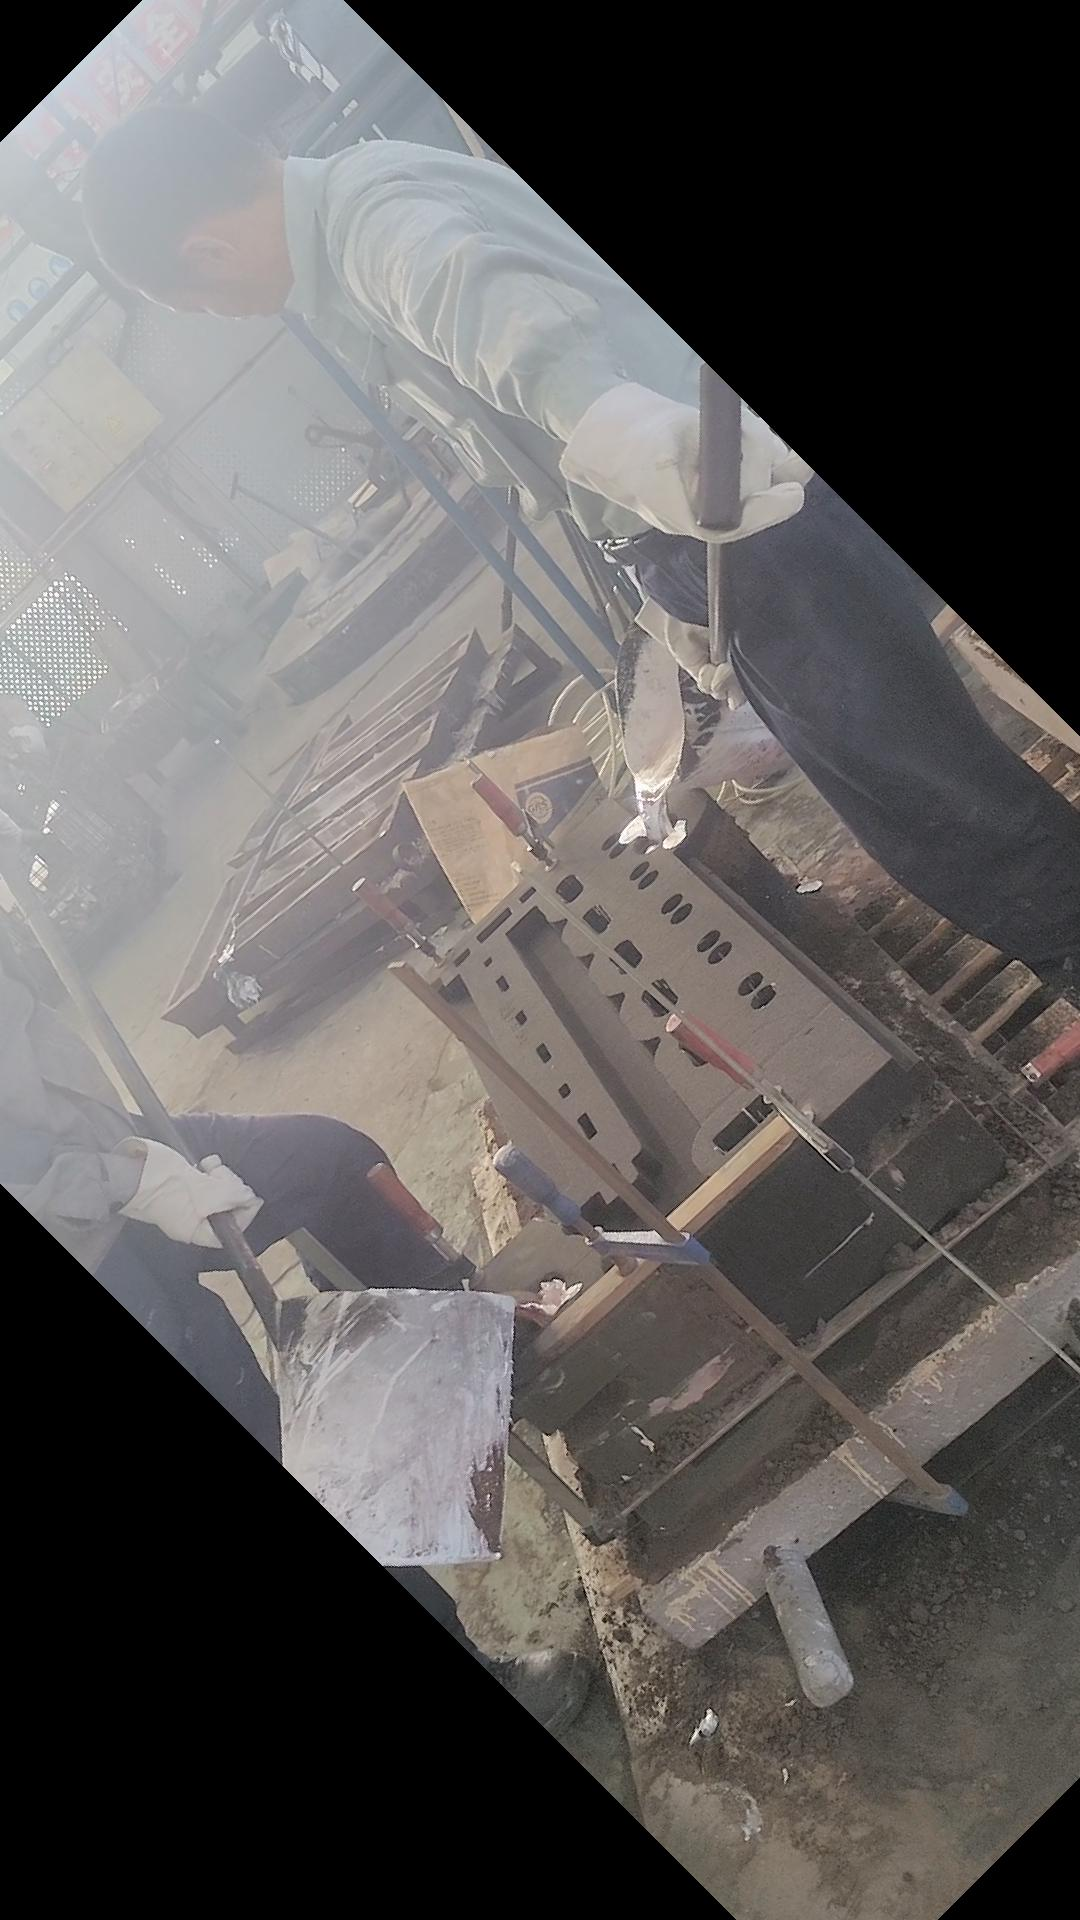pouring hole: (513, 1269, 574, 1332), (632, 811, 676, 855)
